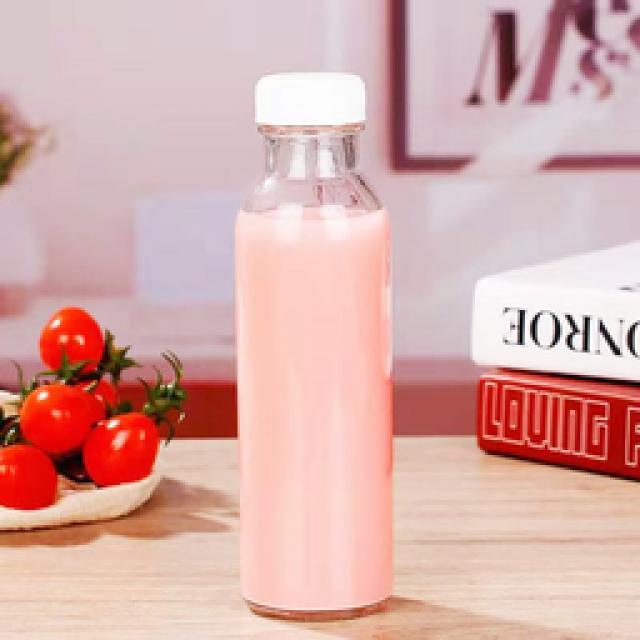glass_beverage_bottles: (232, 60, 396, 622)
